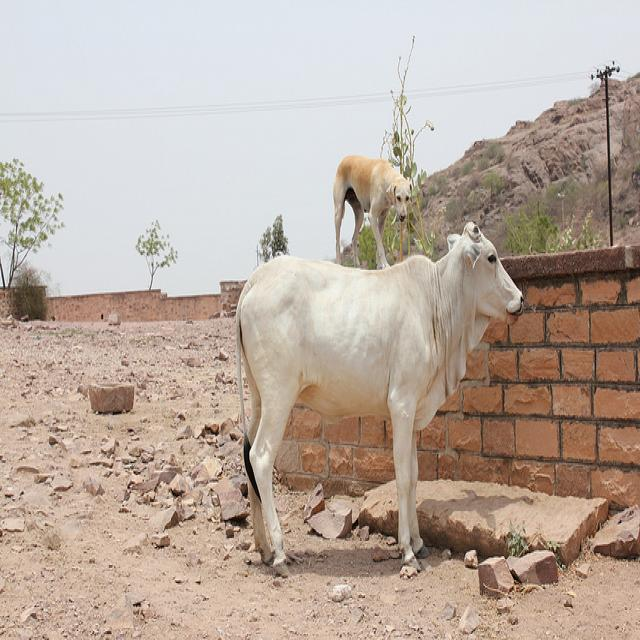cow: (233, 219, 526, 577)
